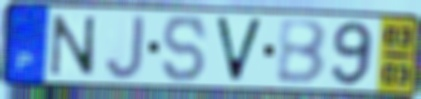9: (329, 20, 377, 88)
B: (275, 18, 330, 87)
J: (103, 13, 147, 82)
N: (49, 13, 98, 79)
S: (161, 13, 210, 85)
V: (212, 15, 267, 85)
